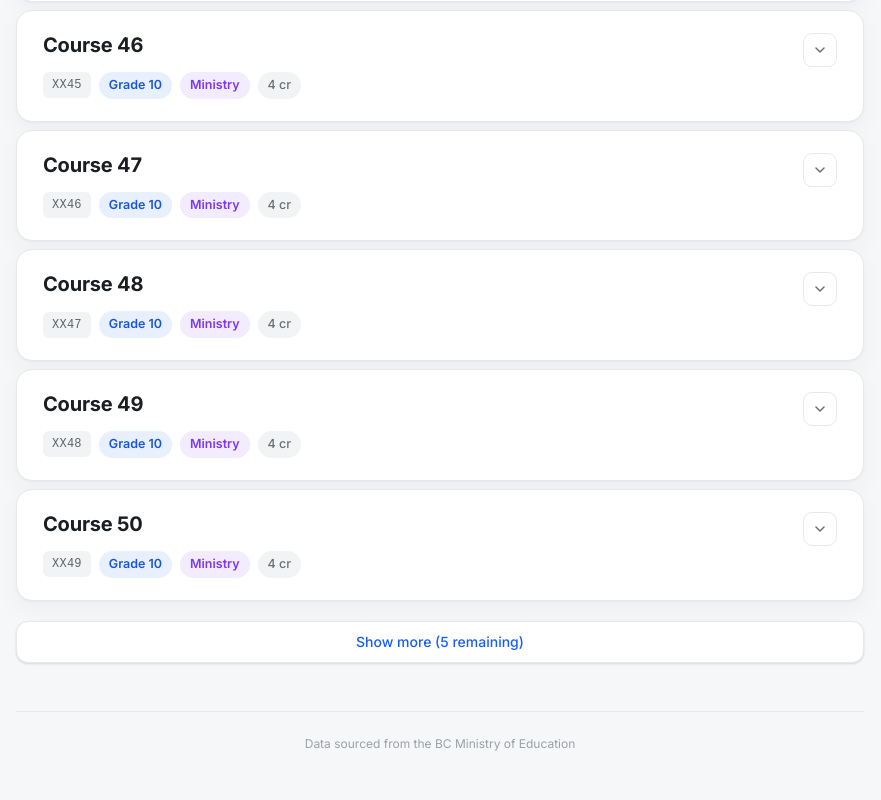
Test: Home page — pagination › resets to page 1 when a filter changes
The width and height of the screenshot is (881, 800).
(page scrolled)
Click the button "Show more (5 remaining)" at (440, 642), box [16,621,864,663]
(page scrolled)
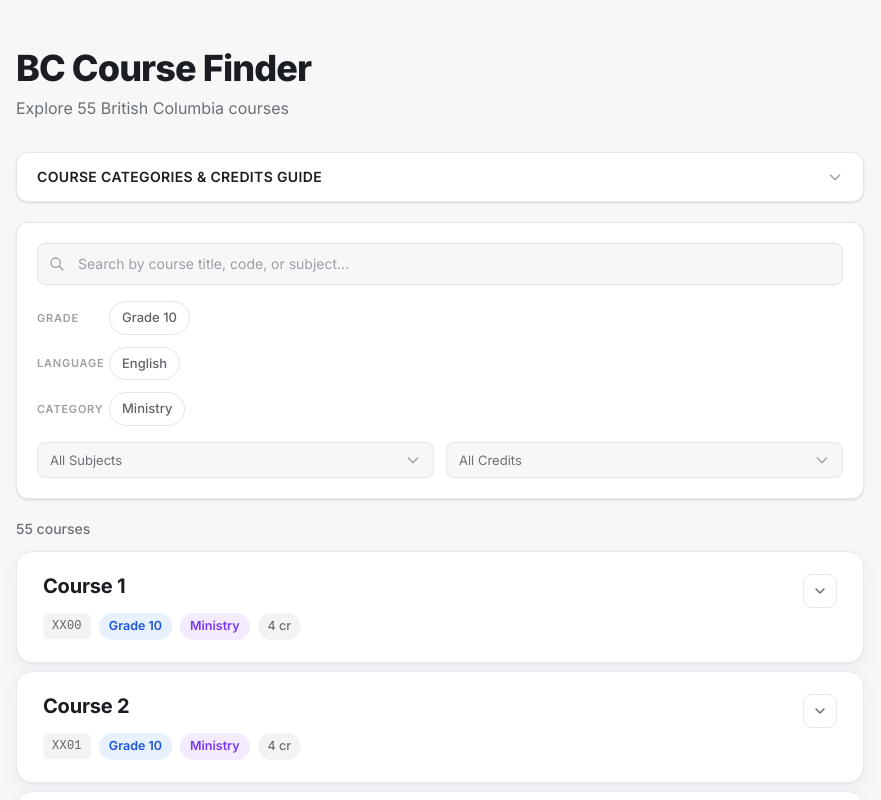
Type "Course 1" into the field with placeholder "Search by course title, code, or subject..." at (440, 264), box [37,243,843,285]
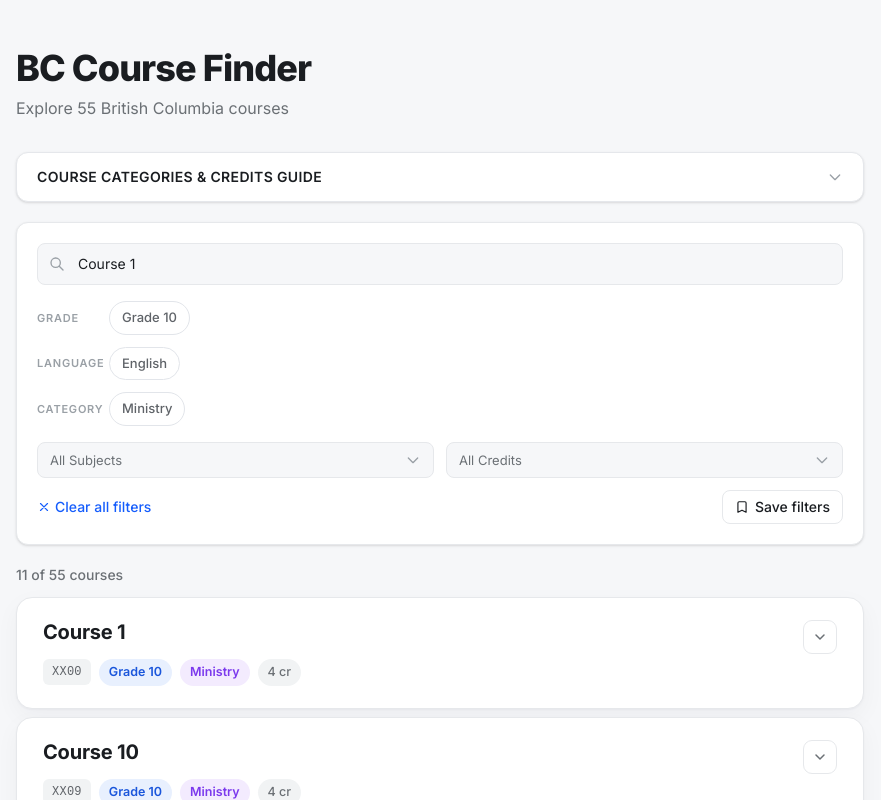
expect the button "Show more" is not shown: met
# Clearing the query should show page 1 again (50 courses), not all 55
Clear the field with placeholder "Search by course title, code, or subject..." at (440, 264), box [37,243,843,285]
(page scrolled)
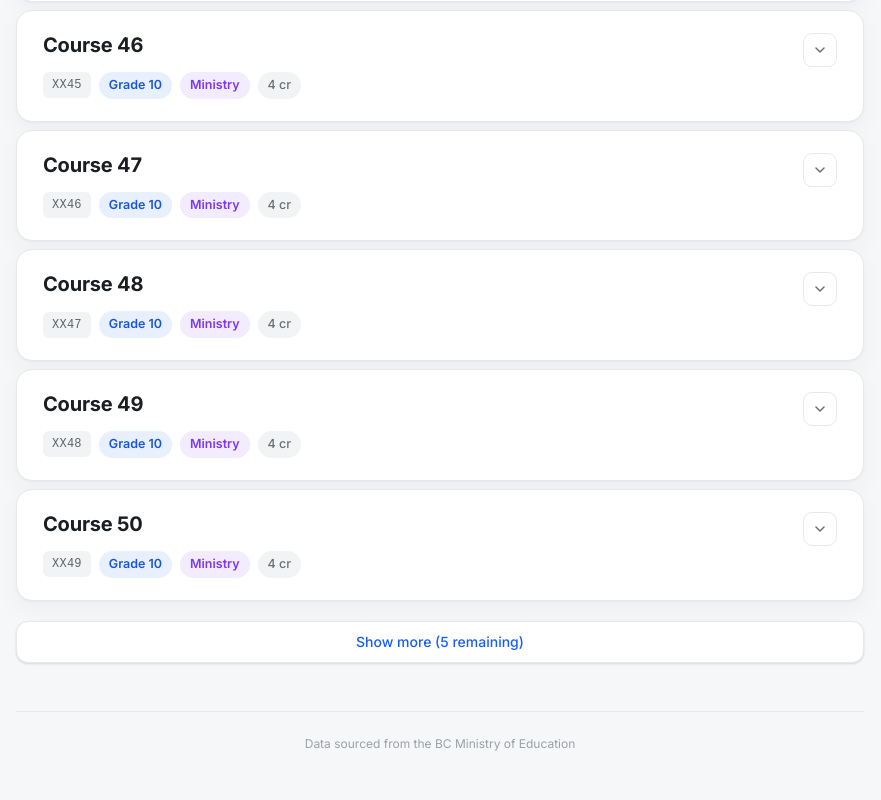
expect the text "Course 50" is shown: met, box [43,512,143,536]
expect the button "Show more (5 remaining)" is shown: met, box [16,621,864,663]
